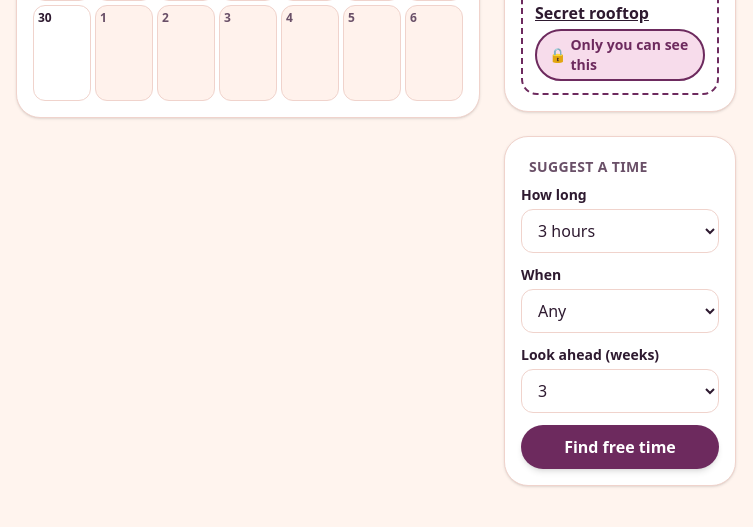
it: Suggest a time › says so when there is no free time, and shows errors
(page scrolled)
Click the button "Find free time": point(620, 447) [521, 425, 719, 469]
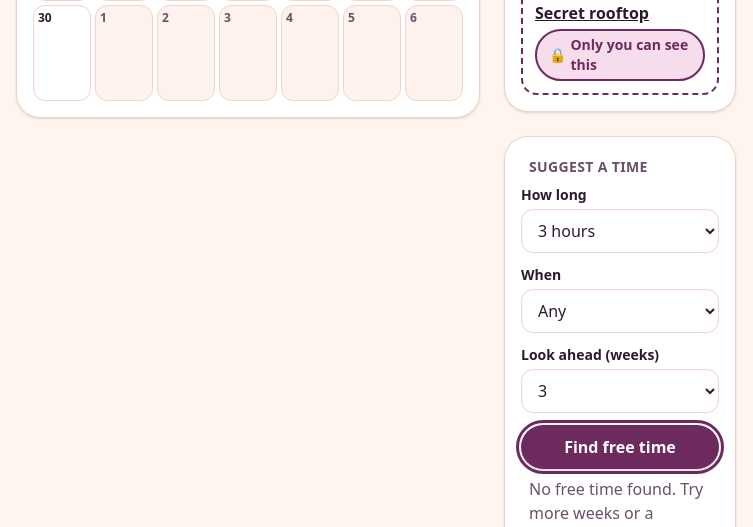
Click the button "Find free time": point(620, 447) [521, 425, 719, 469]
(page scrolled)
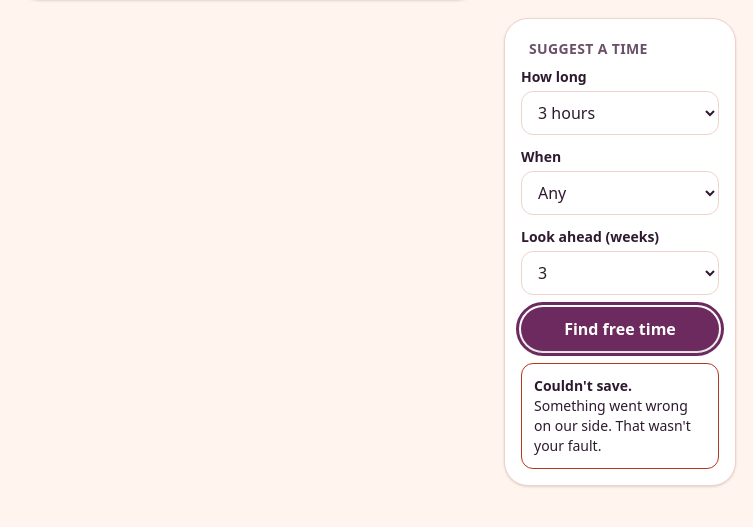
Now the message shows "went wrong on our side", box [534, 396, 691, 455]
